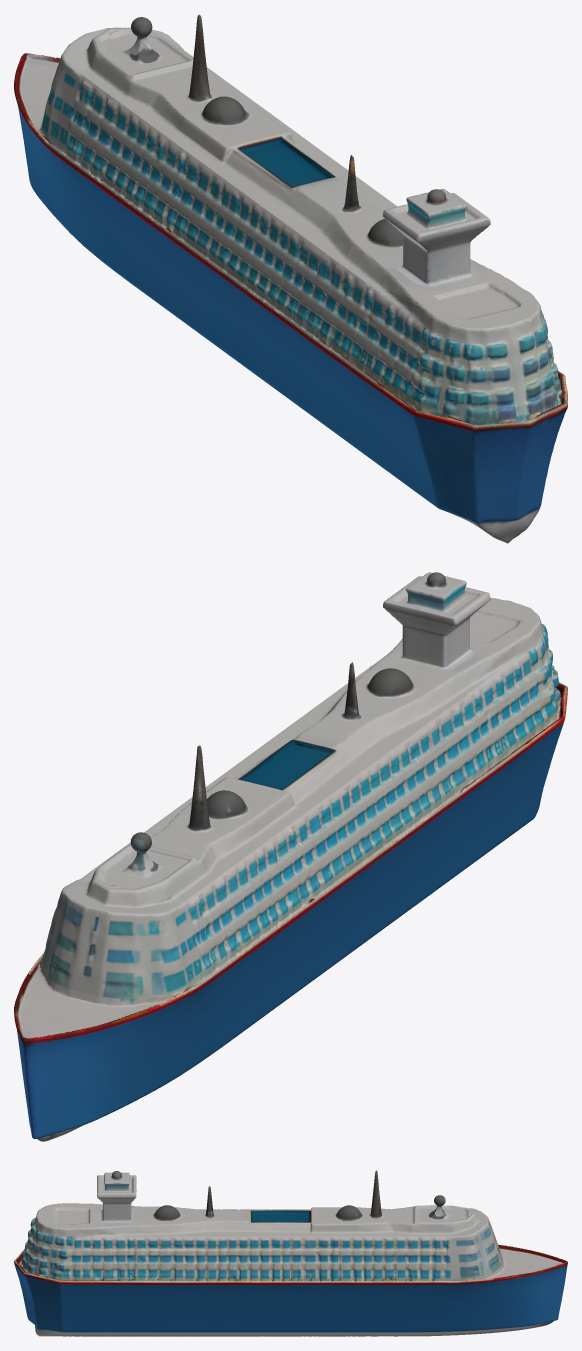
File: passenger.glb
3 renders of one model, top to bottom at view 1: azimuth 30°, elevation 25°; view 2: azimuth 150°, elevation 25°; view 3: azimuth 270°, elevation 25°, orthographic. The views are drawn at different scales.
Visible parts, largest first — view 1: tripo_node_10474fde-50ce-4fbd-9757-ebba4bcec6cd; view 2: tripo_node_10474fde-50ce-4fbd-9757-ebba4bcec6cd; view 3: tripo_node_10474fde-50ce-4fbd-9757-ebba4bcec6cd.
Boxes of the visible parts, bbox=[...] form: tripo_node_10474fde-50ce-4fbd-9757-ebba4bcec6cd: bbox=[14, 14, 567, 543]; tripo_node_10474fde-50ce-4fbd-9757-ebba4bcec6cd: bbox=[14, 572, 567, 1141]; tripo_node_10474fde-50ce-4fbd-9757-ebba4bcec6cd: bbox=[14, 1170, 567, 1336].
Size of the model in its own units: 0.3446 by 0.6607 by 2.
Materials: 1 (1 with a texture image).
